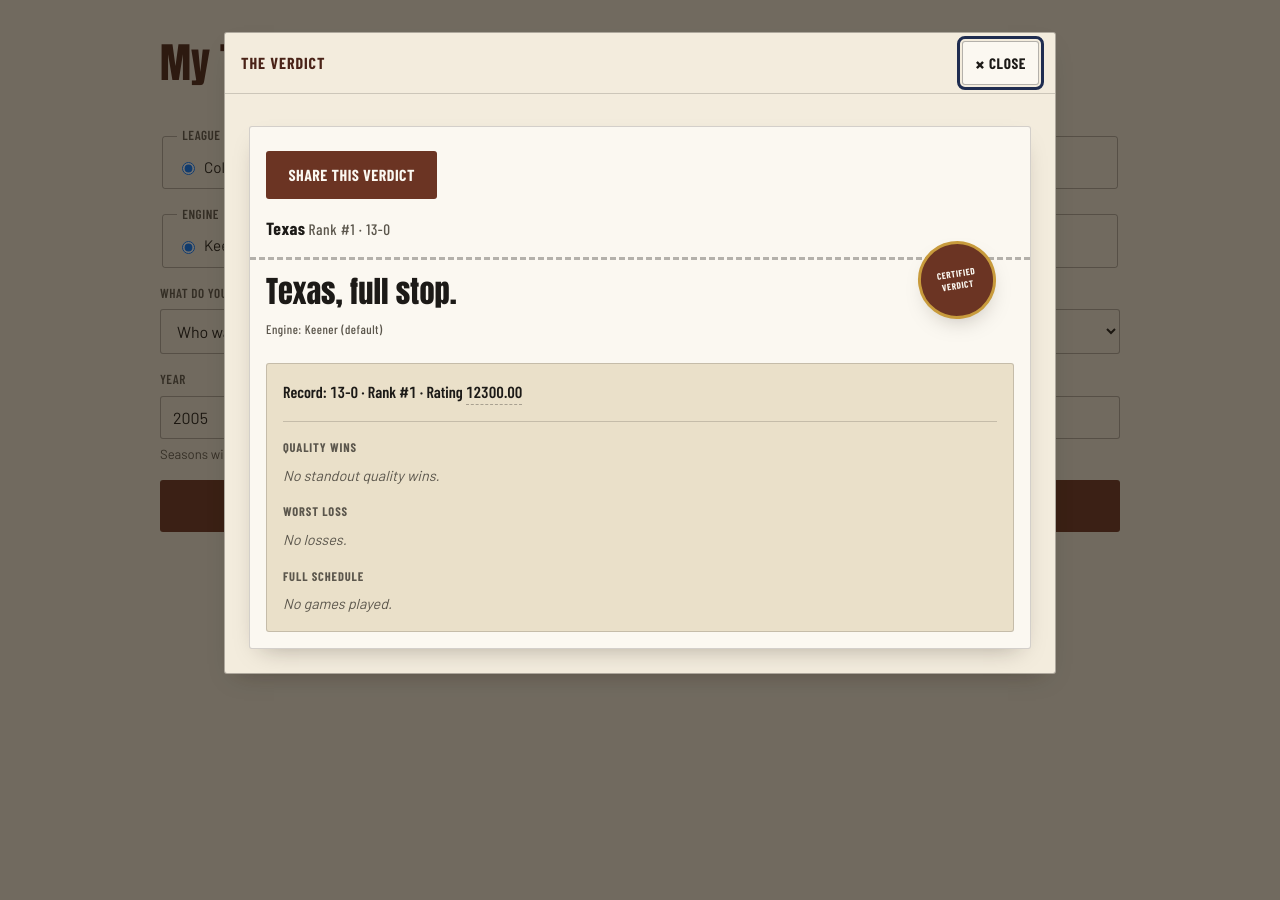
Test: HomePage › the verdict modal (issue #198) › ignores "for" on a champion link, and the visitor's saved team is still there for the other questions
This screenshot has width=1280, height=900.
Expected: the text "Texas, full stop." is shown, [266,268,457,314]
Expected: the field labelled "your team" is not shown
Click the button with aria-label "Close the verdict" at (1001, 63), box [962,41,1039,85]
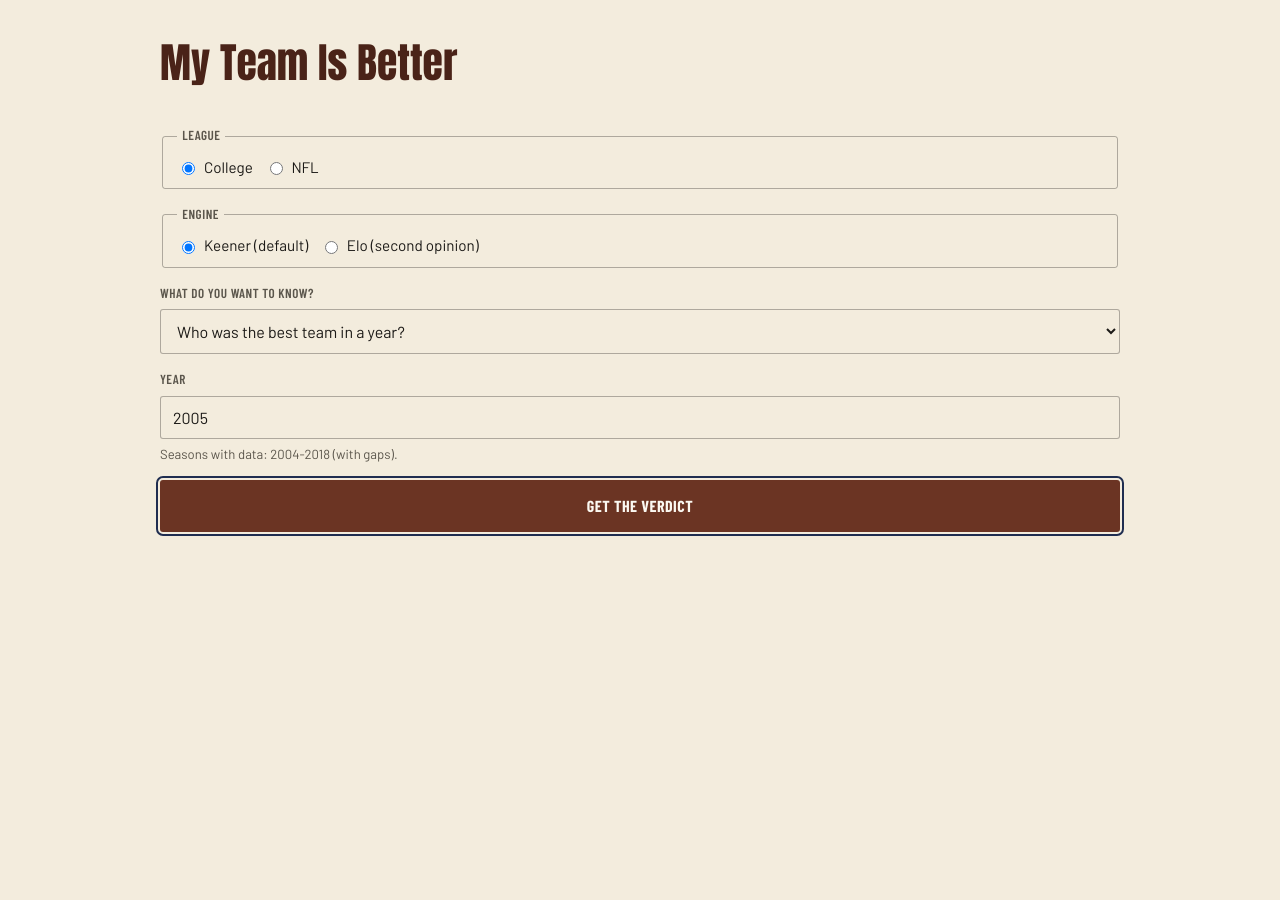
Select "How good was a team in a year?" in the dropdown labelled "What do you want to know?" at (640, 332), box [160,309,1120,354]
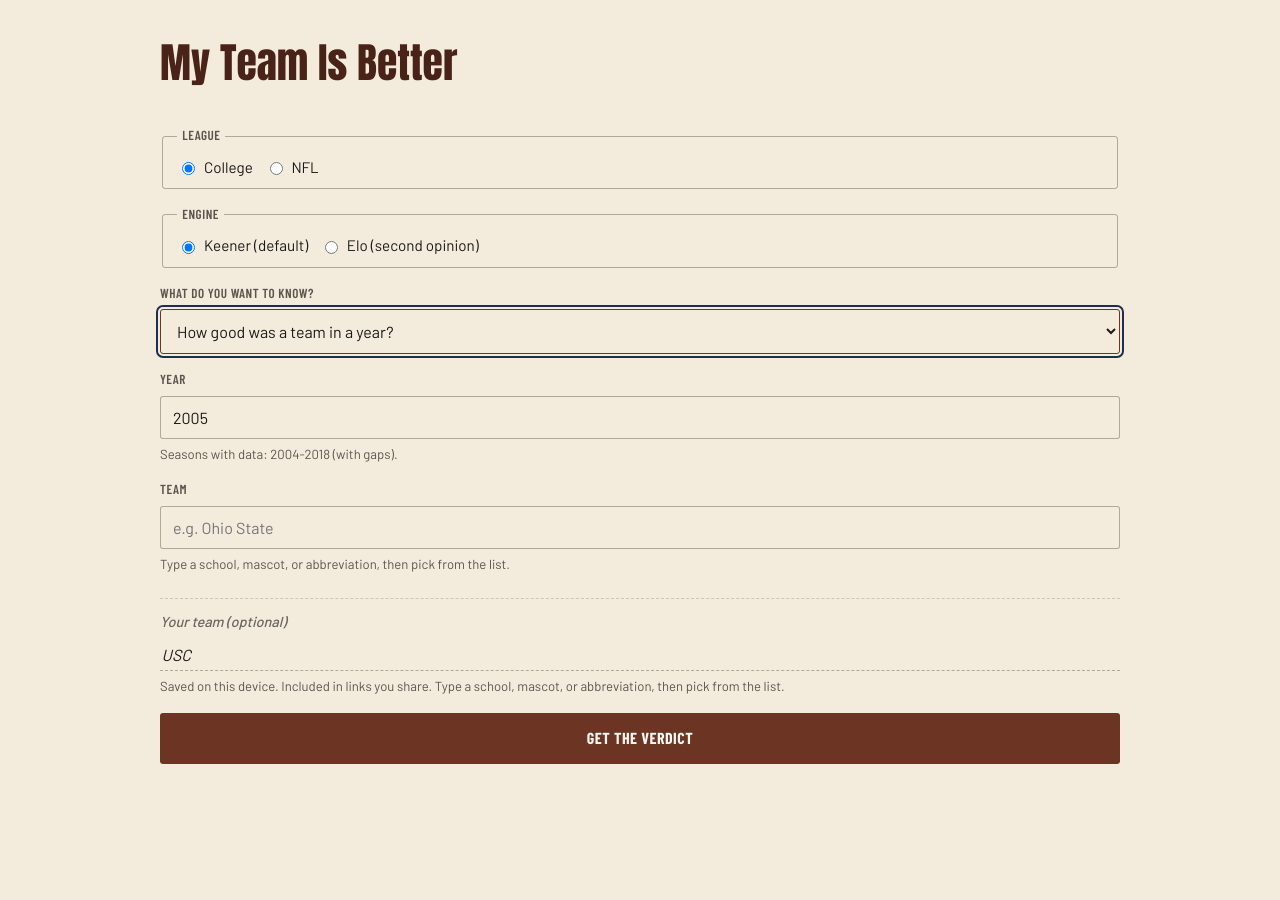
Result: the dropdown labelled "Your team (optional)" holds "USC" at [160,638,1120,671]
